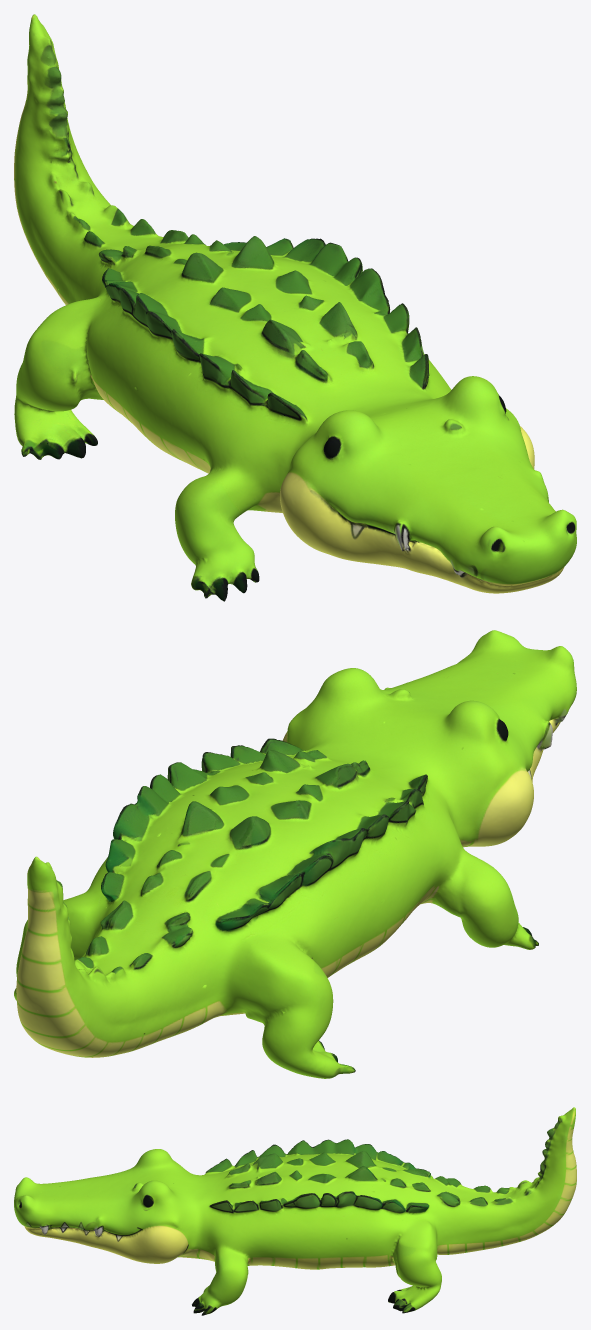
File: Meshy_AI_Emerald_Spiky_Croc_0412074741_texture.fbx
3 renders of one model, top to bottom at view 1: azimuth 30°, elevation 25°; view 2: azimuth 150°, elevation 25°; view 3: azimuth 270°, elevation 25°, orthographic. The views are drawn at different scales.
Parts seen in each view (by area): view 1: Mesh_0; view 2: Mesh_0; view 3: Mesh_0.
Part boxes in pixels (<box>): Mesh_0: <box>14,14,576,601</box>; Mesh_0: <box>14,630,576,1078</box>; Mesh_0: <box>14,1107,576,1315</box>.
Size of the model in its own units: 77.43 by 64.94 by 200.
Materials: 1 (1 with a texture image).
